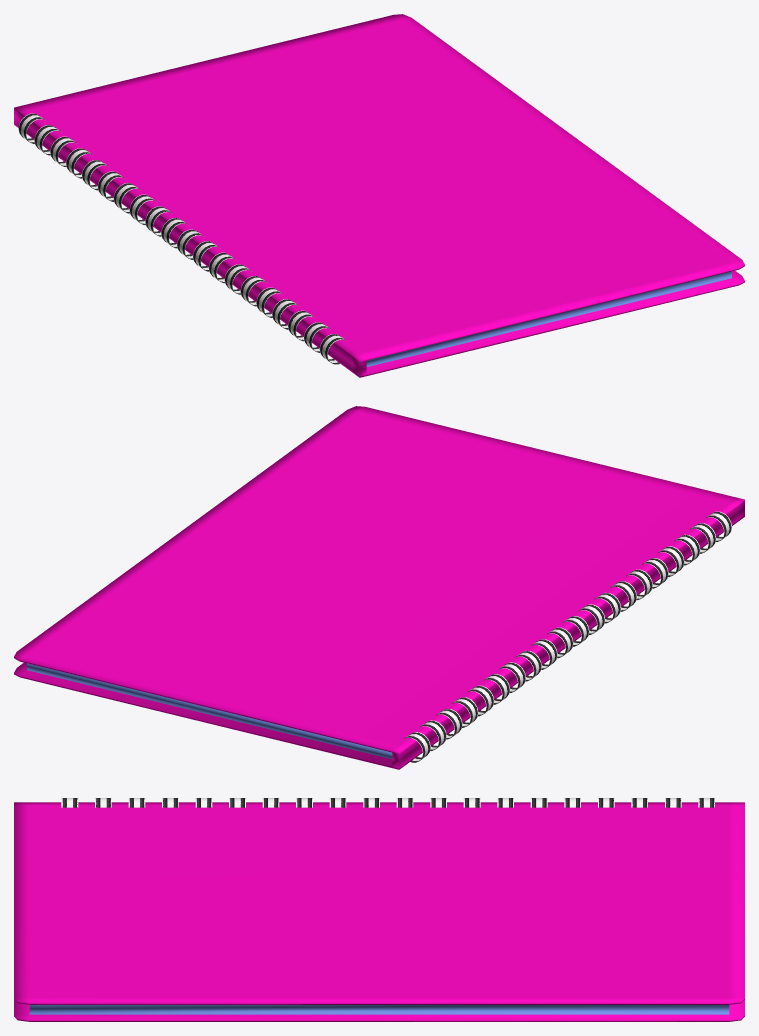
File: Notebook2.fbx
The picture shows the model from 3 angles, top to bottom: view 1: azimuth 30°, elevation 25°; view 2: azimuth 150°, elevation 25°; view 3: azimuth 270°, elevation 25°; orthographic projection. The views are drawn at different scales.
Parts seen in each view (by area): view 1: Cube, Cylinder; view 2: Cube, Cylinder; view 3: Cube, Cylinder.
Part boxes in pixels (<box>): Cube: <box>14,14,744,377</box>; Cylinder: <box>18,113,346,364</box>; Cube: <box>14,406,744,769</box>; Cylinder: <box>404,511,731,762</box>; Cube: <box>14,802,744,1021</box>; Cylinder: <box>61,798,714,807</box>.
Size of the model in its own units: 133 by 7.91 by 200.
